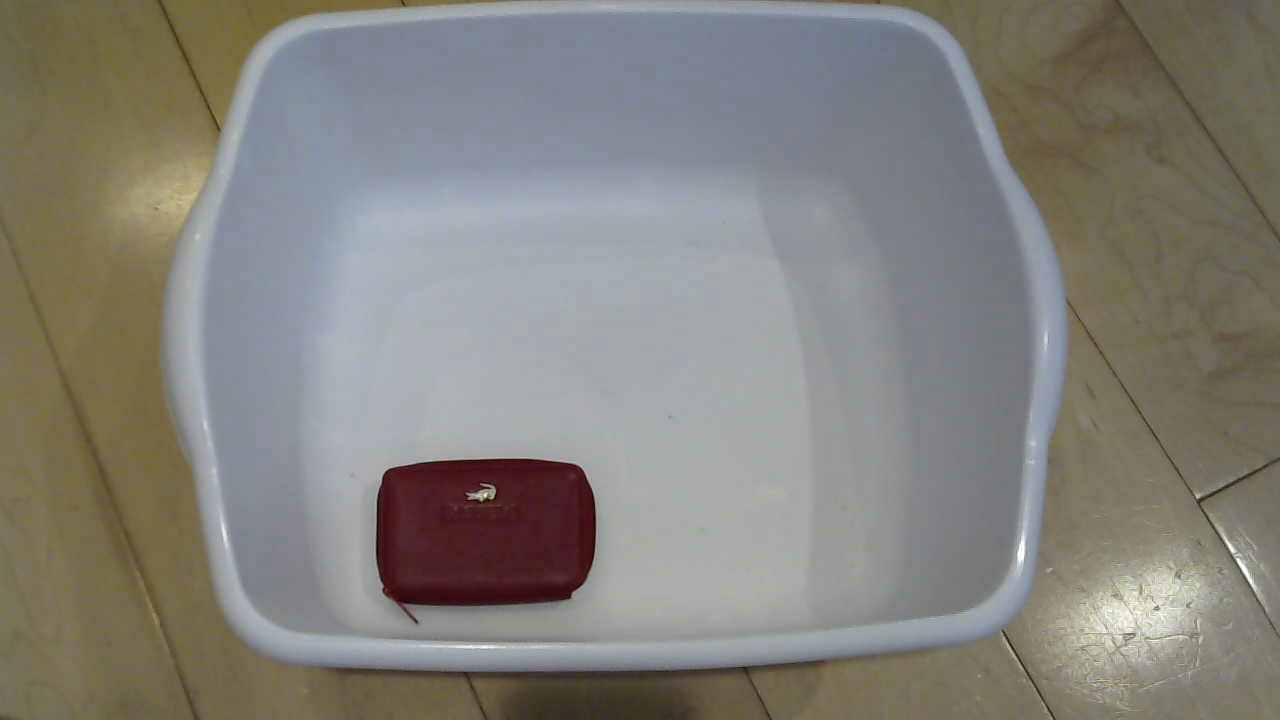wallet: (359, 466, 604, 635)
